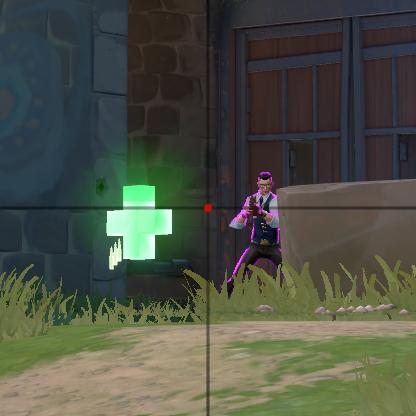enemyBody: (255, 174, 277, 262)
